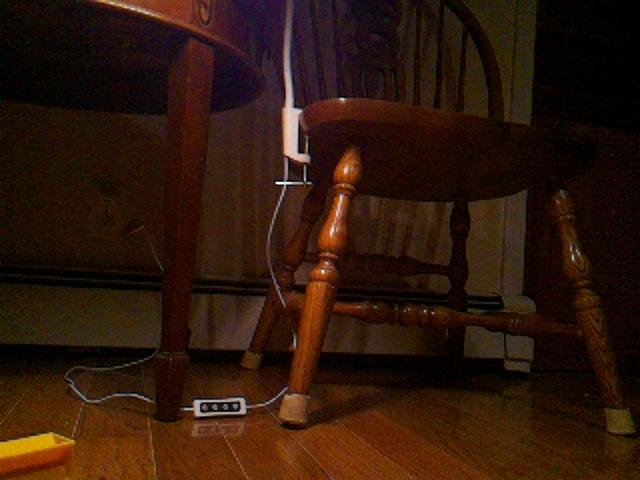yellow: (1, 430, 77, 477)
